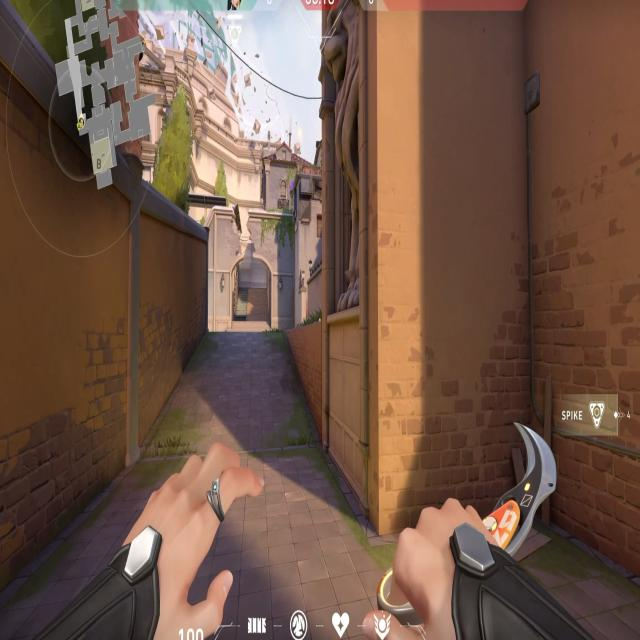Lion_Corner: (311, 4, 385, 330)
